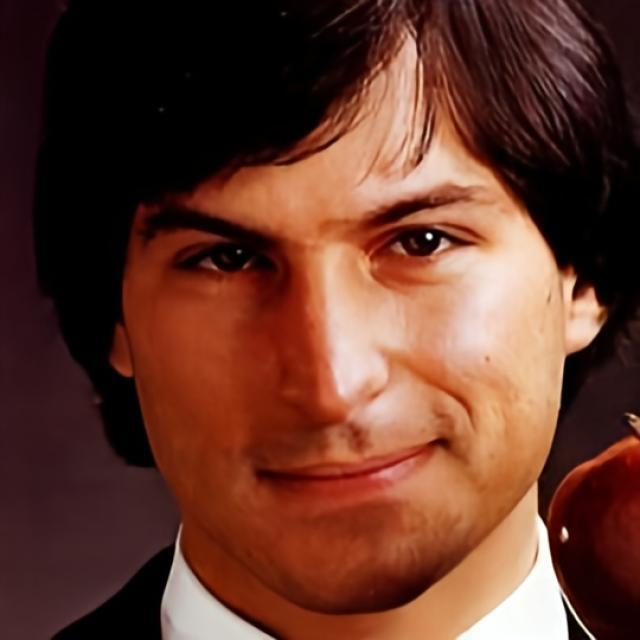content: (122, 17, 566, 620)
